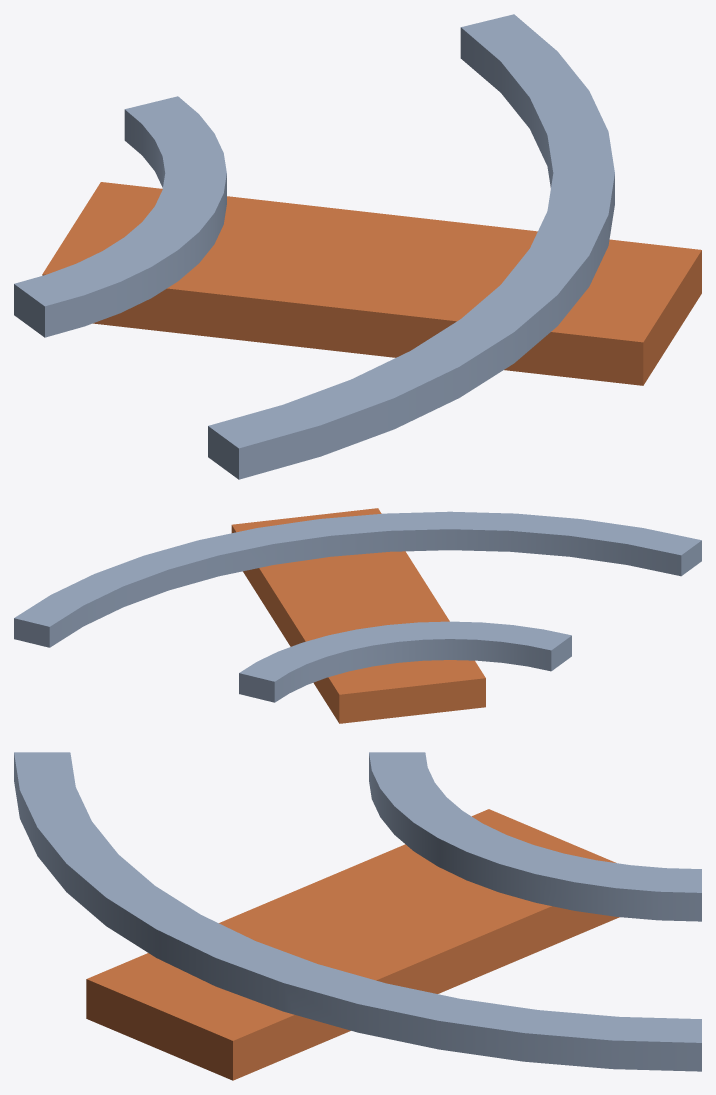
File: trackCornerSmall.obj
3 renders of one model, top to bottom at view 1: azimuth 30°, elevation 25°; view 2: azimuth 150°, elevation 25°; view 3: azimuth 270°, elevation 25°, orthographic. The views are drawn at different scales.
Parts seen in each view (by area): view 1: trackCornerSmall; view 2: trackCornerSmall; view 3: trackCornerSmall.
Part boxes in pixels (x1,y1,x2,y2): trackCornerSmall: (14, 14, 701, 479); trackCornerSmall: (14, 508, 701, 723); trackCornerSmall: (14, 752, 701, 1080).
Bounding box in the file's own units: 0.2197 × 0.0241 × 0.2197.
